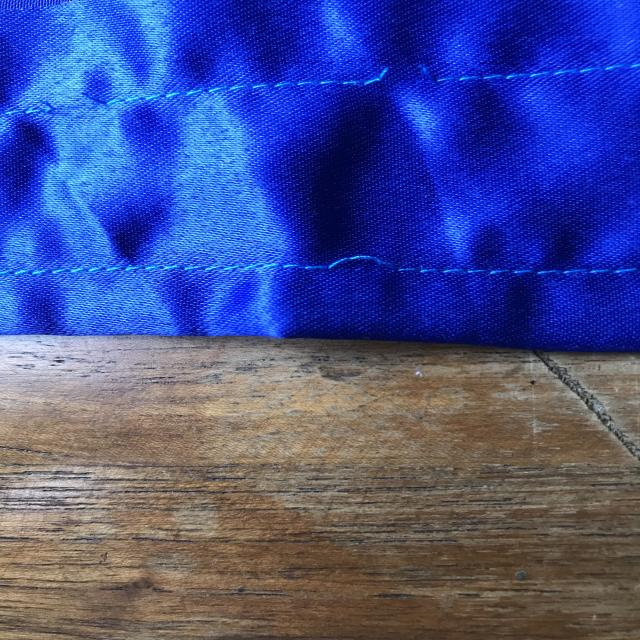broken: (353, 47, 477, 112)
skip: (294, 237, 414, 293)
